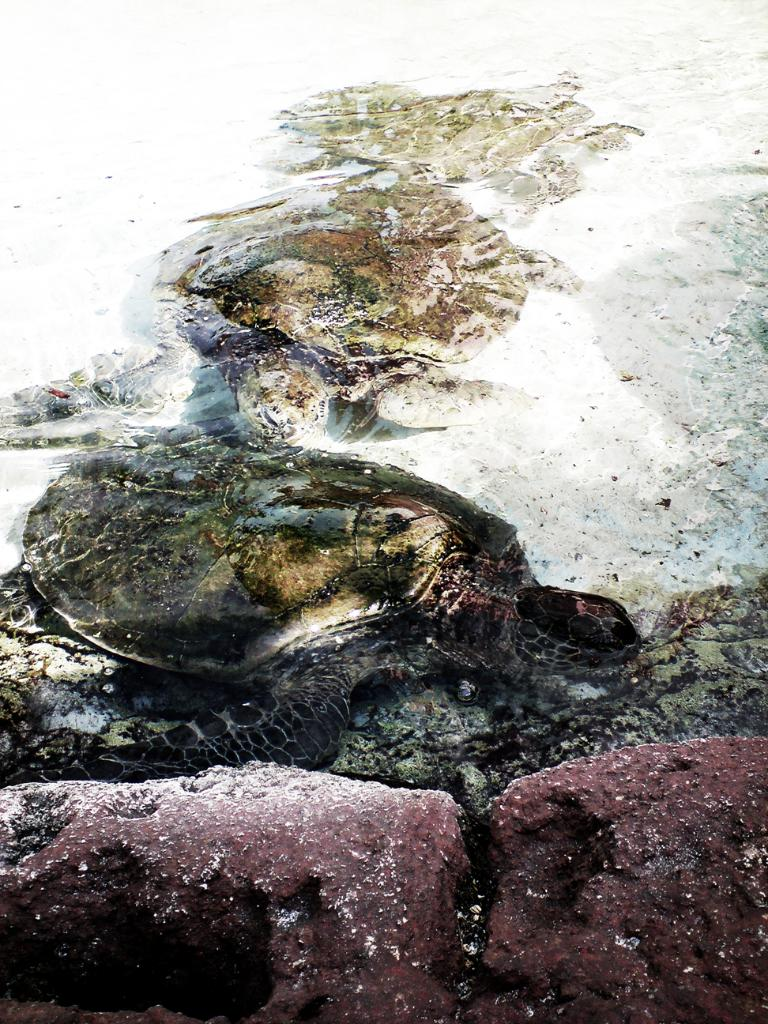Sea turtles: (0, 427, 661, 791), (0, 168, 576, 446), (272, 75, 645, 212)
